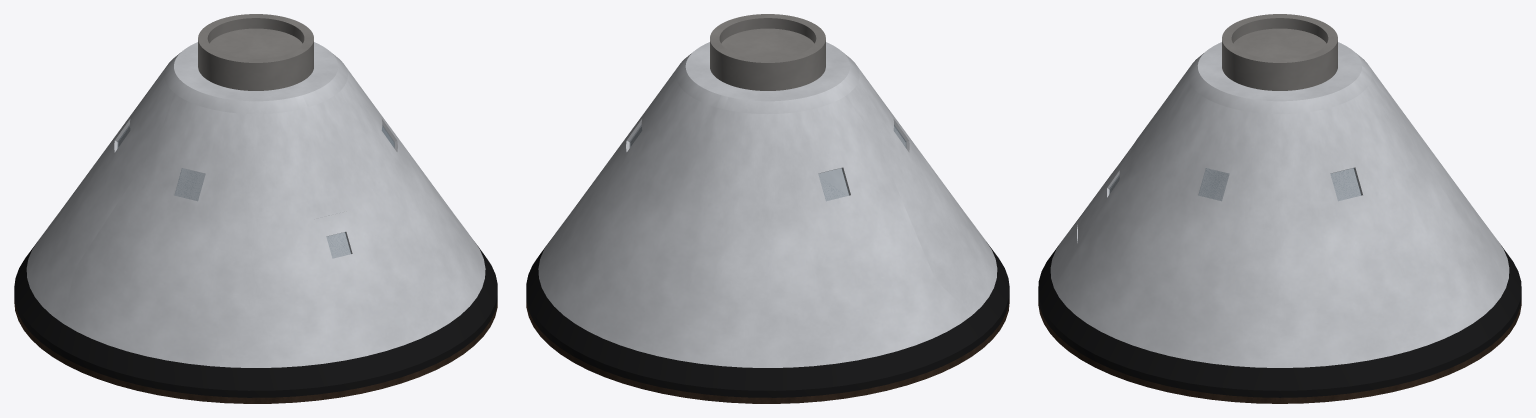
Rendered from cmd06_orion_capsule.glb.
3 renders of one model, left to right at view 1: azimuth 30°, elevation 25°; view 2: azimuth 150°, elevation 25°; view 3: azimuth 270°, elevation 25°, orthographic.
Parts seen in each view (by area): view 1: backshell_upper, backshell_lower, docking_tunnel, heat_shield, windows; view 2: backshell_upper, backshell_lower, docking_tunnel, heat_shield, windows; view 3: backshell_upper, backshell_lower, docking_tunnel, heat_shield, windows.
Part boxes in pixels (bbox=[...]): backshell_upper: bbox=[26, 42, 485, 367]; backshell_lower: bbox=[14, 243, 497, 397]; docking_tunnel: bbox=[198, 14, 313, 90]; heat_shield: bbox=[14, 298, 497, 403]; windows: bbox=[117, 125, 394, 258]; backshell_upper: bbox=[538, 42, 997, 367]; backshell_lower: bbox=[526, 243, 1009, 397]; docking_tunnel: bbox=[710, 14, 825, 90]; heat_shield: bbox=[526, 298, 1009, 403]; windows: bbox=[629, 125, 906, 200]; backshell_upper: bbox=[1050, 42, 1509, 367]; backshell_lower: bbox=[1038, 244, 1521, 397]; docking_tunnel: bbox=[1222, 14, 1337, 90]; heat_shield: bbox=[1038, 300, 1521, 403]; windows: bbox=[1109, 168, 1361, 200].
Size of the model in its own units: 5 by 3.43 by 5.
Materials: 5 (3 with a texture image).
